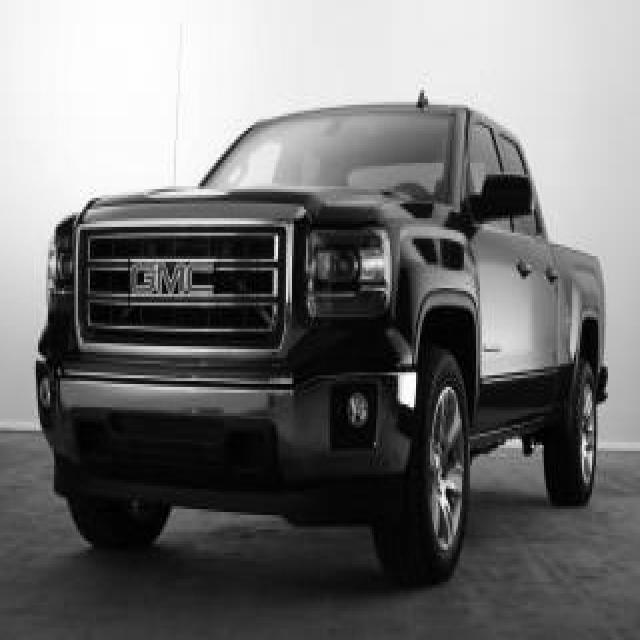Car: (36, 102, 608, 583)
